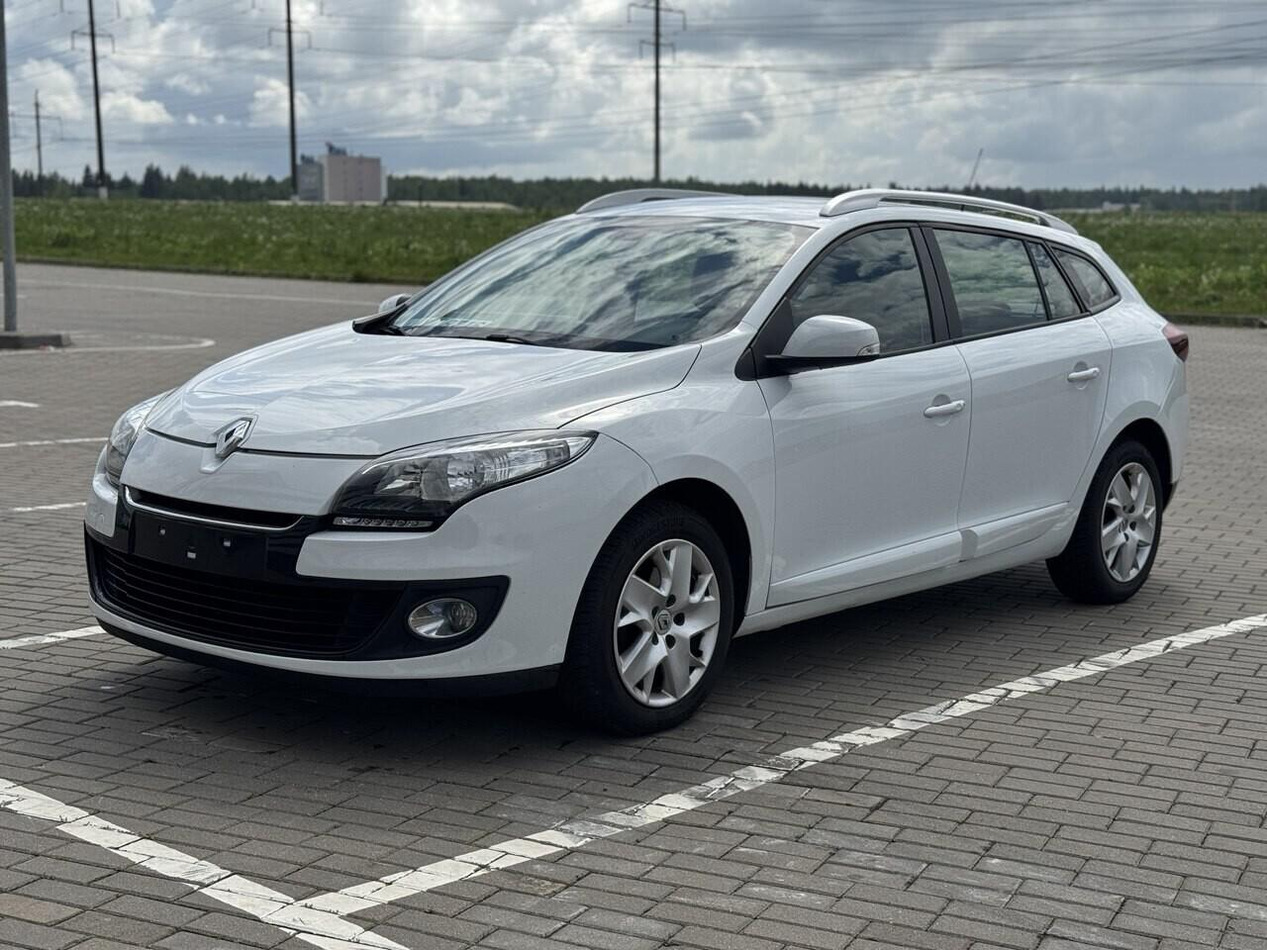Megane_2012-2014: (73, 188, 1194, 710)
